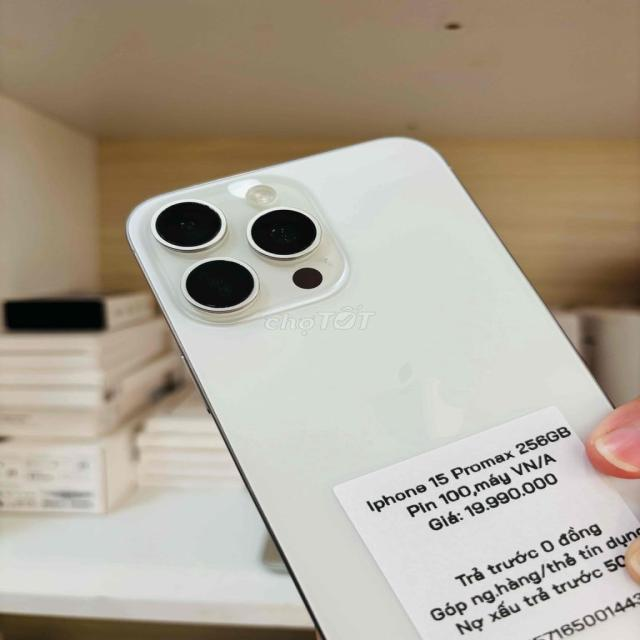gen_15: (113, 121, 639, 640)
